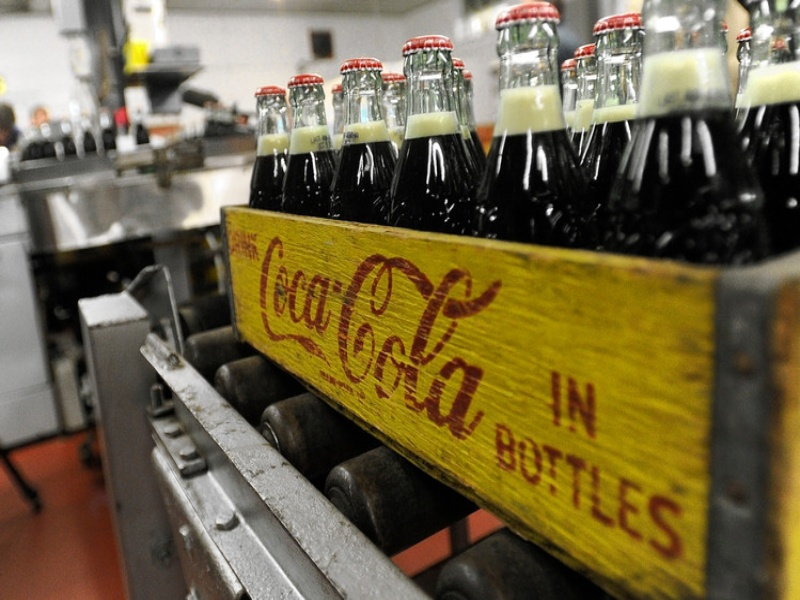Glass bottle: (468, 1, 578, 229), (365, 26, 480, 235), (562, 5, 663, 190), (317, 34, 397, 221), (260, 73, 346, 218), (214, 65, 300, 199)
